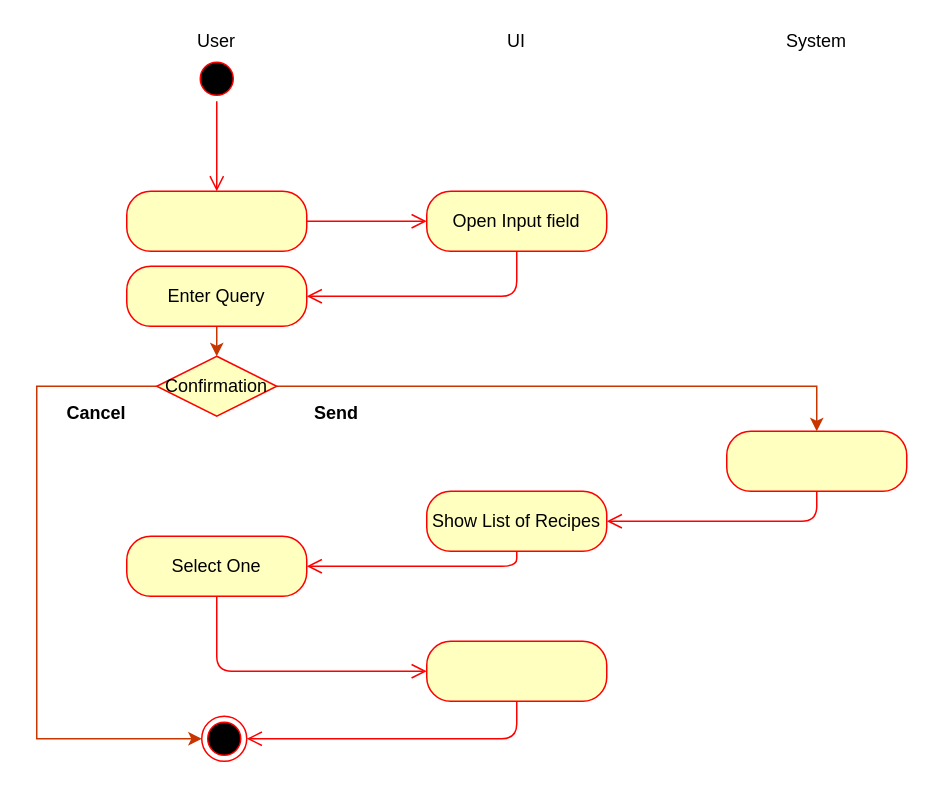
Image size: 933x788. Some labels were removed from this diagram. The shapes that lost their labels are listed below. From the top down, each one's centre as x and y in pixels, then its label:
At (216,220): "Click Search Icon".
At (816,460): "Search for matching recipes".
At (516,670): "Show Details".
